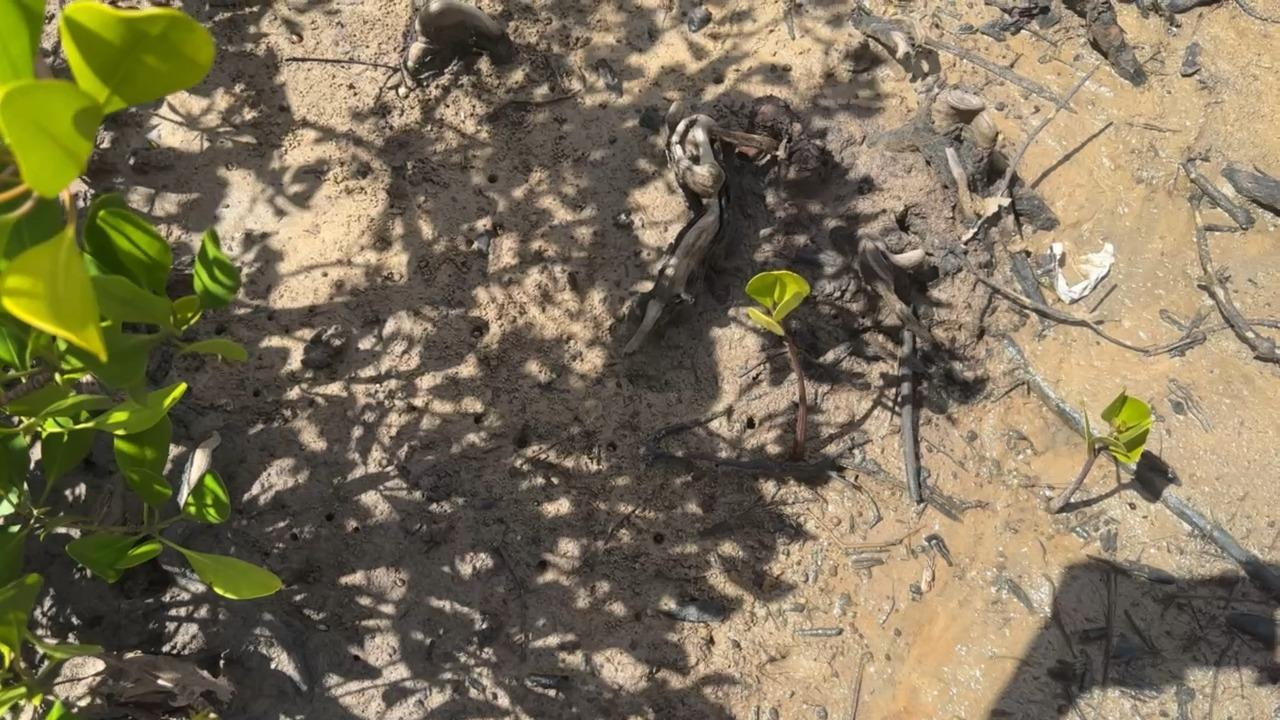Tree: (1045, 389, 1152, 515), (746, 271, 811, 458)
